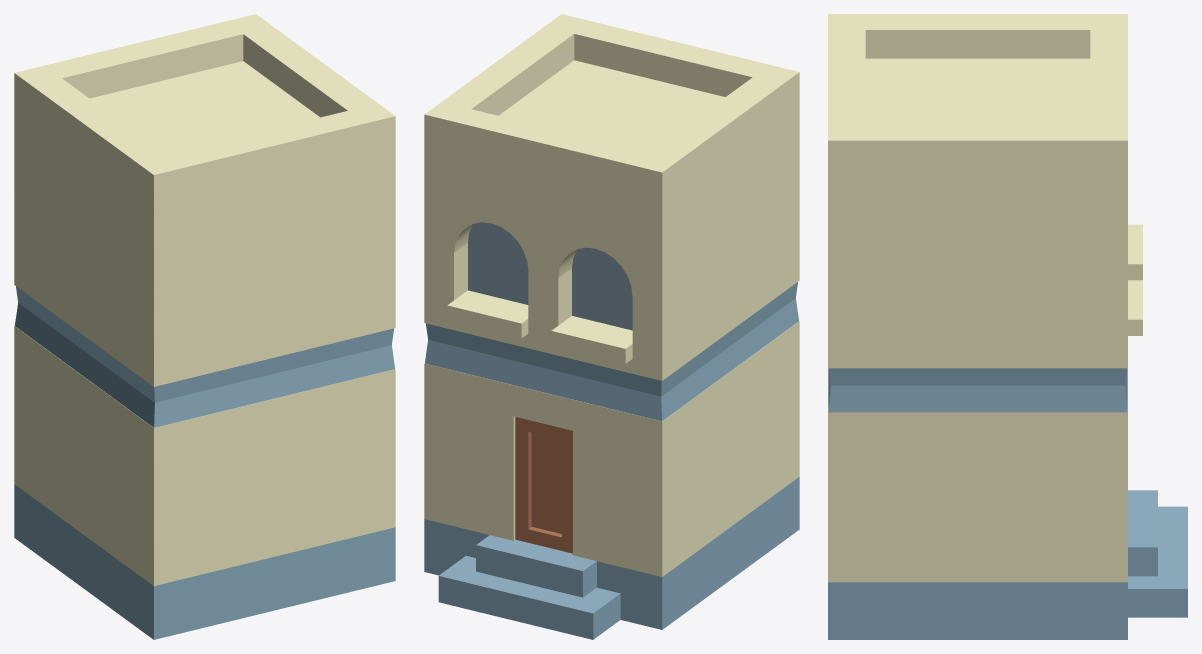
File: SM_Building_01.fbx
3 views of the same model, side by side, from view 1: azimuth 30°, elevation 25°; view 2: azimuth 150°, elevation 25°; view 3: azimuth 270°, elevation 25° (orthographic). The views are drawn at different scales.
Visible parts, largest first — view 1: SM_Building_01; view 2: SM_Building_01; view 3: SM_Building_01.
Part boxes in pixels (x1,y1,x2,y2): SM_Building_01: [14, 14, 395, 639]; SM_Building_01: [424, 14, 799, 639]; SM_Building_01: [828, 14, 1187, 639].
Bounding box in the file's own units: 400 × 735 × 480.
